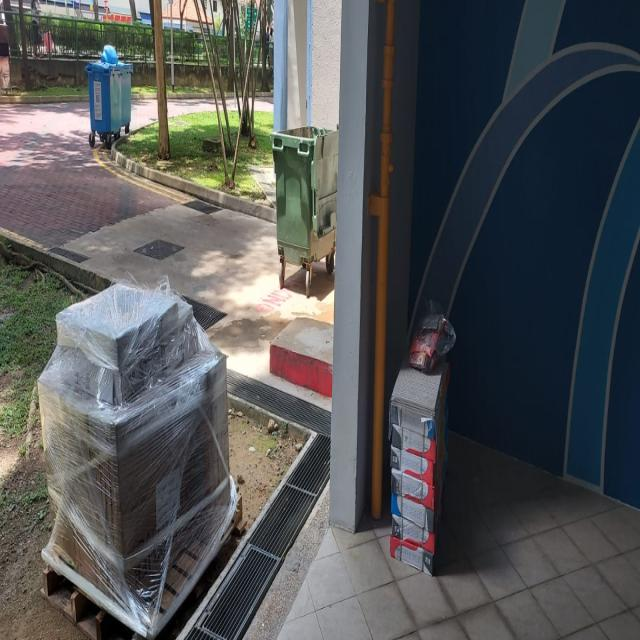bin_empty: (270, 119, 336, 293), (85, 48, 135, 148)
bulk_waste: (42, 291, 238, 578), (394, 307, 456, 582)
